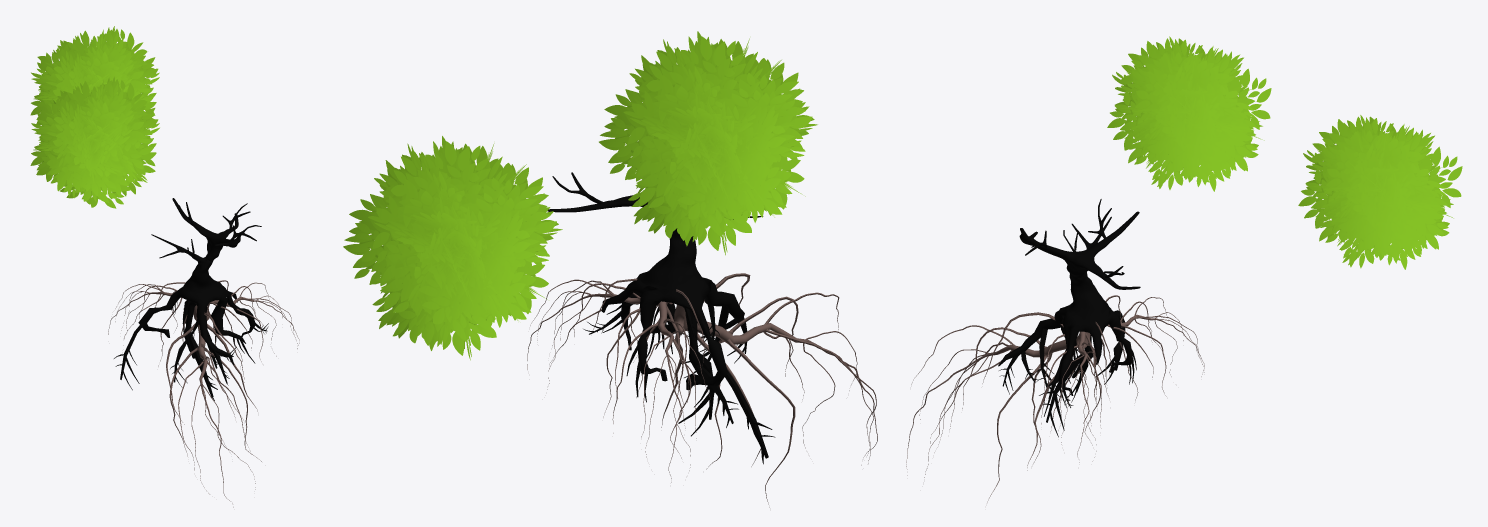
Rendered from testing the leaves2.fbx.
The picture shows the model from 3 angles, left to right: view 1: azimuth 30°, elevation 25°; view 2: azimuth 150°, elevation 25°; view 3: azimuth 270°, elevation 25°; orthographic projection. The views are drawn at different scales.
Visible parts, largest first — view 1: Cube.026; view 2: Cube.026; view 3: Cube.026.
Part boxes in pixels (box(x1,y1,x2,y2)): Cube.026: box(30, 26, 299, 507); Cube.026: box(343, 31, 877, 507); Cube.026: box(906, 36, 1462, 502).
Bounding box in the file's own units: 1563 × 2394 × 2781.
2 materials, 1 textured.
